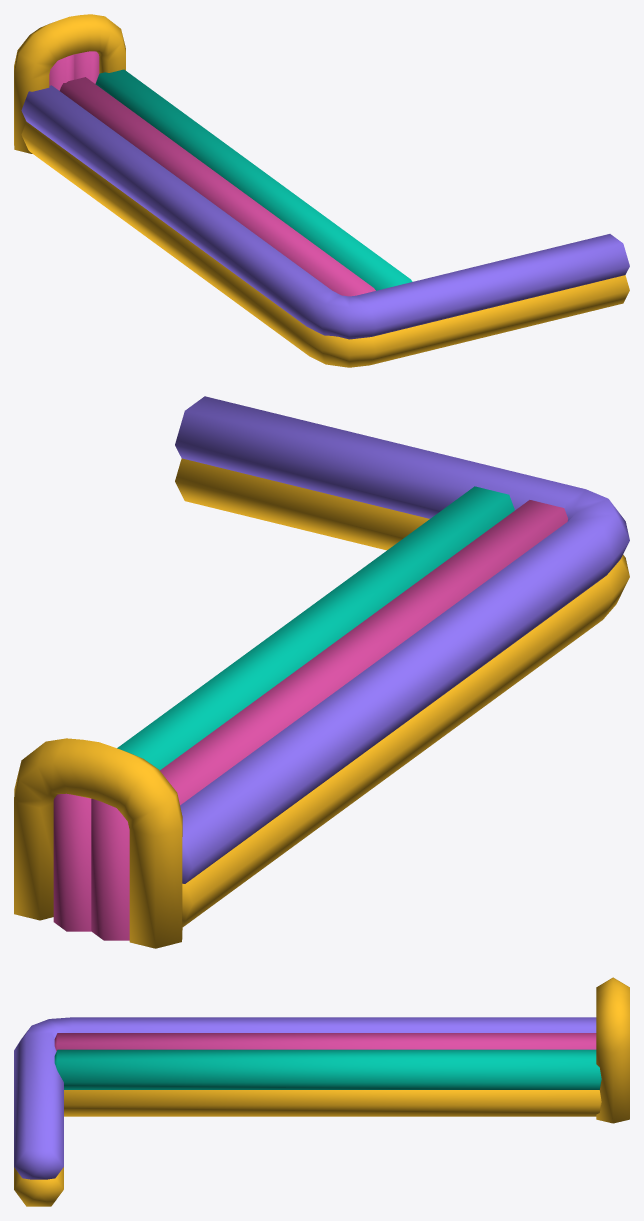
The model's file is course01.glb.
The picture shows the model from 3 angles, top to bottom: view 1: azimuth 30°, elevation 25°; view 2: azimuth 150°, elevation 25°; view 3: azimuth 270°, elevation 25°; orthographic projection. The views are drawn at different scales.
Parts seen in each view (by area): view 1: Cylinder.452, Cylinder.451, Cylinder.456, Cylinder.454, archCurve.031, Cylinder.457, Cylinder.458; view 2: Cylinder.452, Cylinder.451, archCurve.031, Cylinder.456, Cylinder.454, Cylinder.457, Cylinder.458; view 3: Cylinder.456, Cylinder.452, Cylinder.455, Cylinder.454, archCurve.031, Cylinder.451.
Boxes of the visible parts, x1,y1,x2,y2 form: Cylinder.452: (21, 85, 629, 339); Cylinder.451: (21, 121, 629, 367); Cylinder.456: (95, 69, 412, 290); Cylinder.454: (59, 77, 375, 296); archCurve.031: (14, 14, 125, 153); Cylinder.457: (74, 51, 99, 83); Cylinder.458: (49, 54, 74, 90); Cylinder.452: (175, 396, 629, 883); Cylinder.451: (175, 458, 629, 927); archCurve.031: (14, 738, 182, 948); Cylinder.456: (117, 486, 514, 770); Cylinder.454: (160, 500, 567, 805); Cylinder.457: (53, 793, 91, 931); Cylinder.458: (91, 798, 129, 940); Cylinder.456: (54, 1049, 601, 1089); Cylinder.452: (14, 1017, 596, 1179); Cylinder.455: (64, 1090, 601, 1116); Cylinder.454: (54, 1033, 596, 1050); archCurve.031: (596, 977, 629, 1123); Cylinder.451: (14, 1167, 63, 1206).
Size of what is drawn, in the model's own units: 16.36 by 6.48 by 30.45.
1 material, 1 textured.
